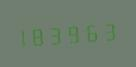eight: (34, 22, 50, 48)
nine: (69, 19, 85, 45)
one: (17, 23, 33, 49)
six: (86, 18, 102, 44)
three: (103, 17, 119, 43), (52, 21, 68, 46)
